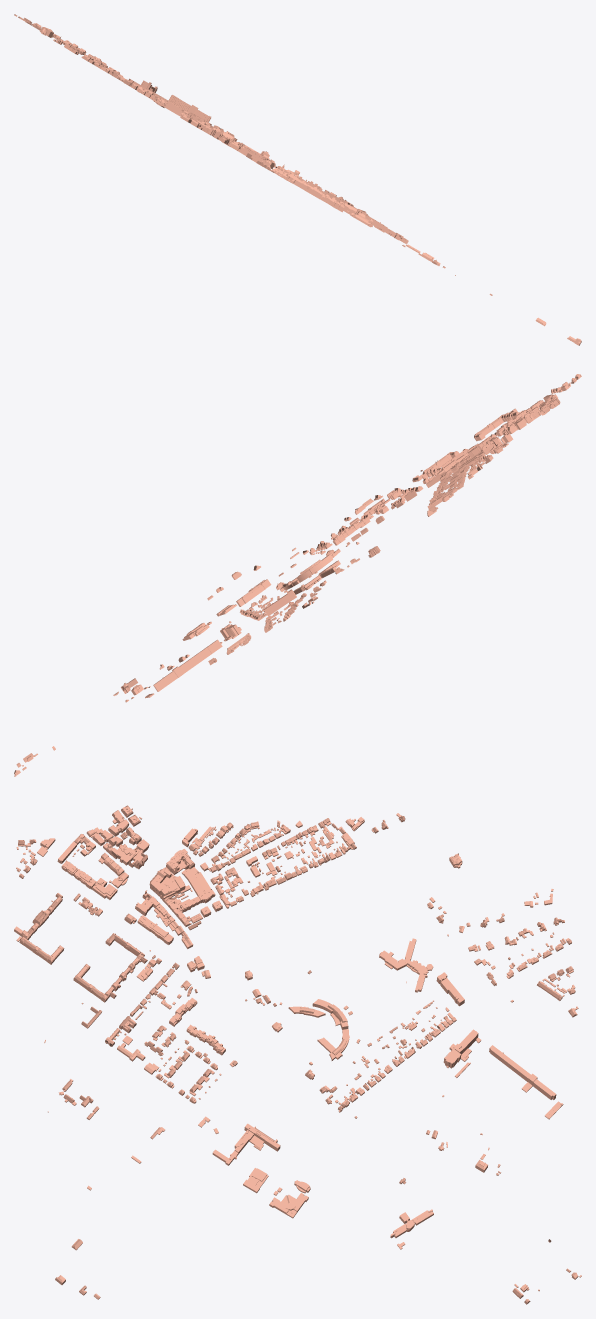
3 renders of one model, top to bottom at view 1: azimuth 30°, elevation 25°; view 2: azimuth 150°, elevation 25°; view 3: azimuth 270°, elevation 25°, orthographic. The views are drawn at different scales.
Size of the model in its own units: 982 by 781 by 1243.
